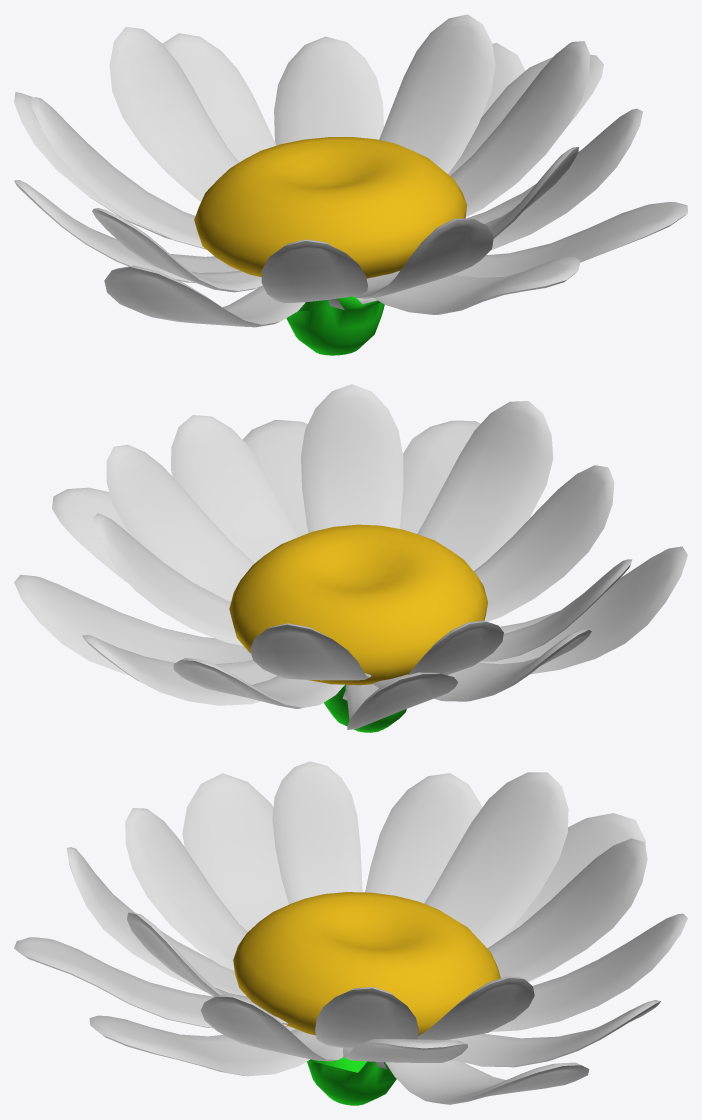
File: Fleur2.glb
The picture shows the model from 3 angles, top to bottom: view 1: azimuth 30°, elevation 25°; view 2: azimuth 150°, elevation 25°; view 3: azimuth 270°, elevation 25°; orthographic projection. The views are drawn at different scales.
Visible parts, largest first — view 1: Paquerette; view 2: Paquerette; view 3: Paquerette.
Part boxes in pixels (bbox=[...]): Paquerette: bbox=[14, 14, 687, 355]; Paquerette: bbox=[14, 384, 687, 732]; Paquerette: bbox=[14, 761, 687, 1105].
Bounding box in the file's own units: 2.53 × 1.06 × 2.61.
